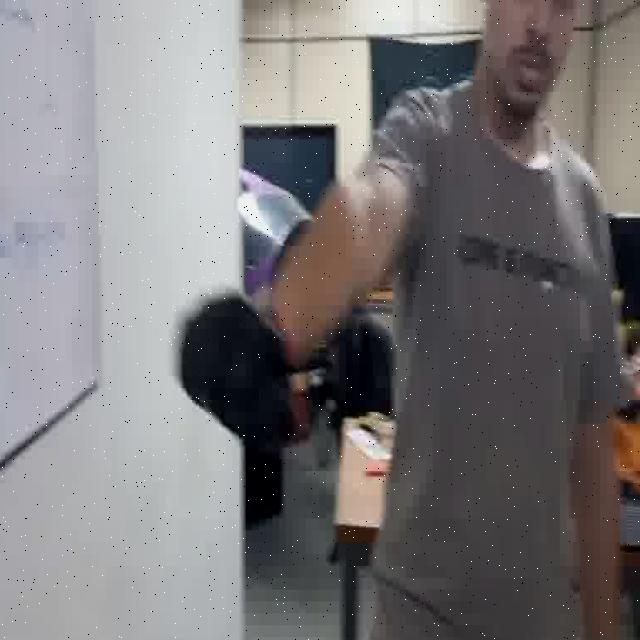Gloves: (180, 294, 308, 450)
